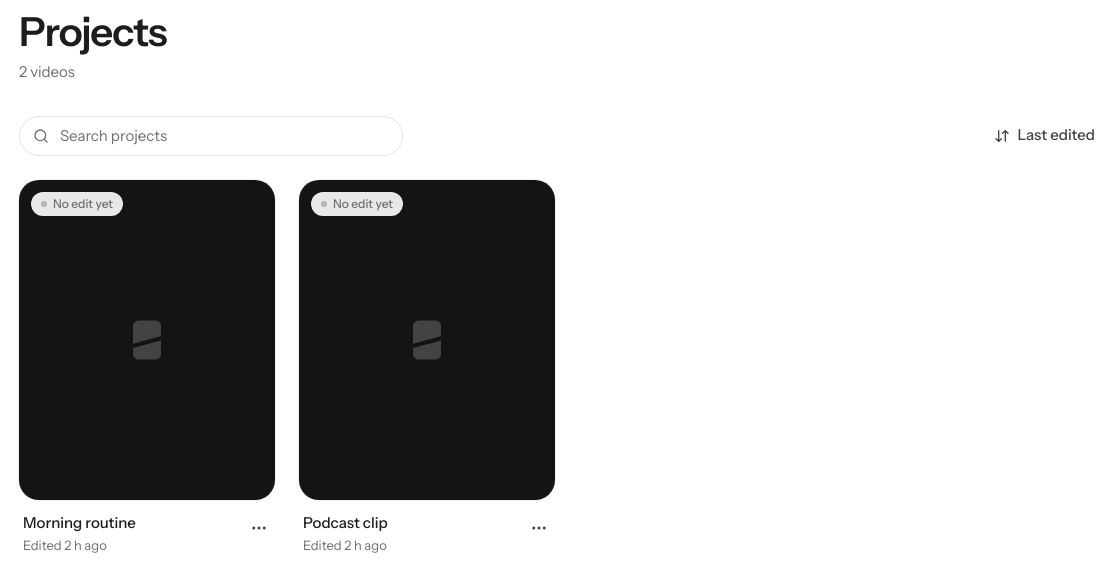
Test case: Dashboard › lists projects and filters them by search
Expected: the link "Morning routine" is shown, x1=23 y1=512 x2=136 y2=532
Type "podcast" into the search field labelled "Search projects" at (211, 136), box x1=19 y1=116 x2=403 y2=156
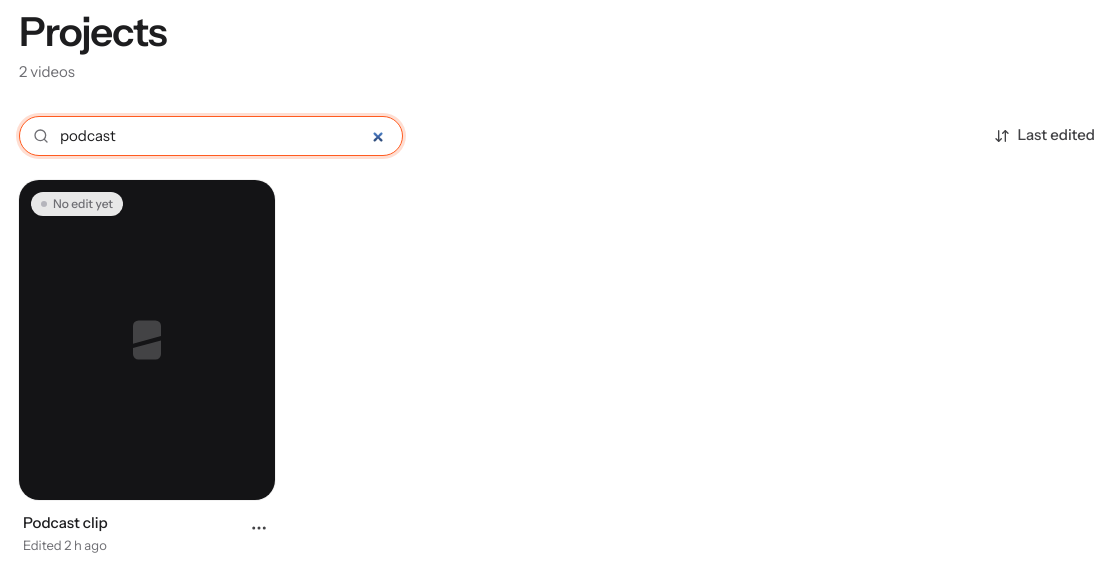
Expected: the link "Podcast clip" is shown, x1=23 y1=512 x2=108 y2=532
Expected: the link "Morning routine" is gone
